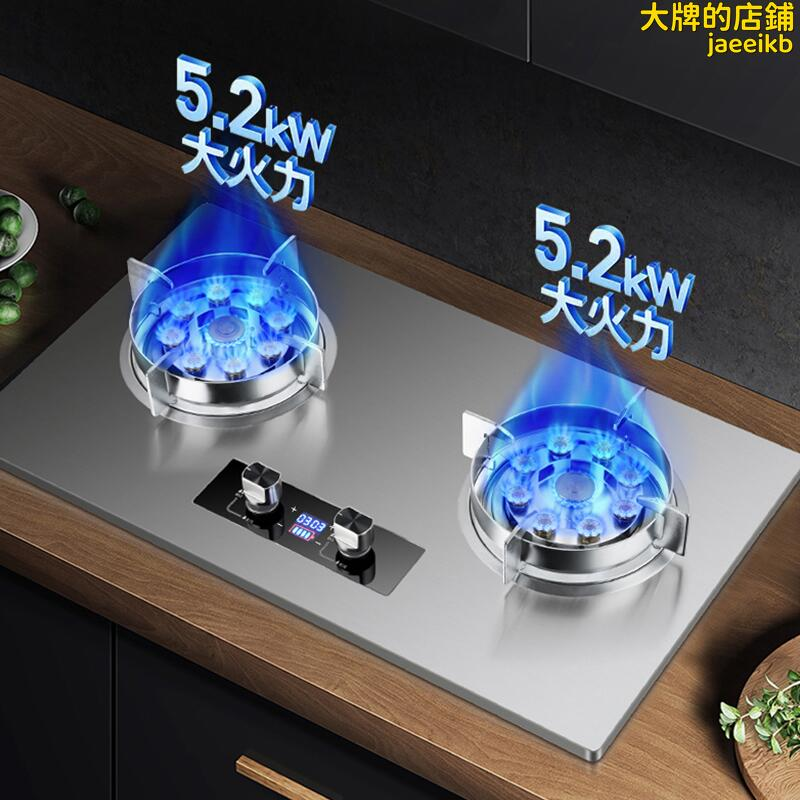gasoven: (3, 195, 799, 760)
